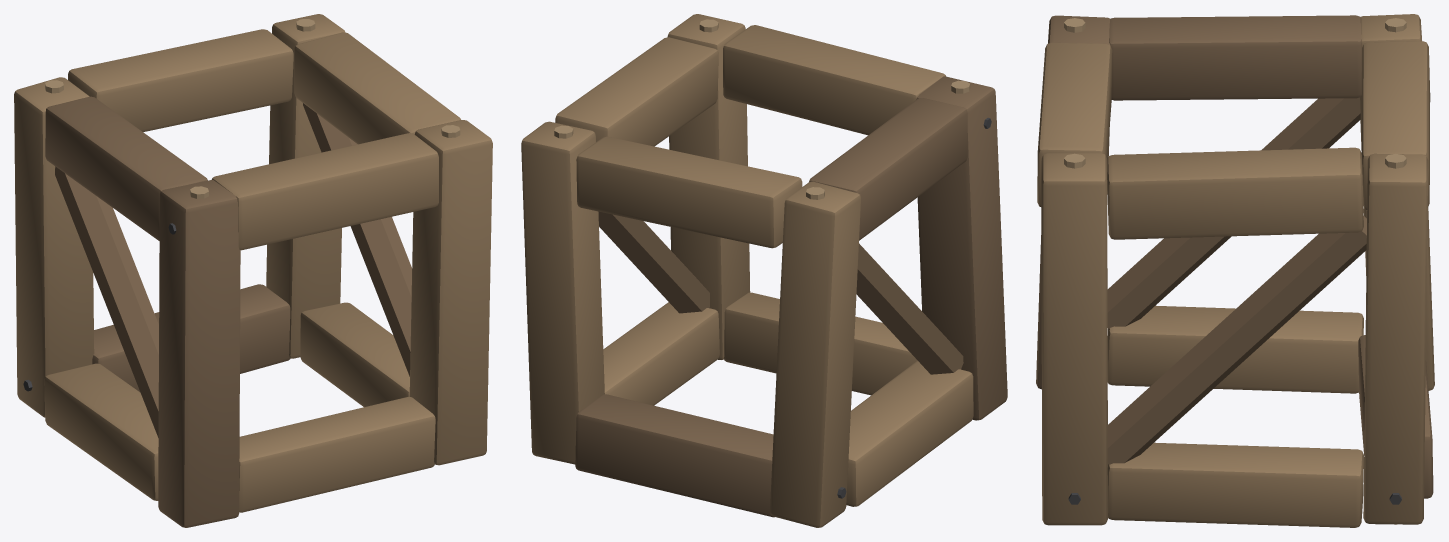
Rendered from wood_frame.glb.
3 renders of one model, left to right at view 1: azimuth 30°, elevation 25°; view 2: azimuth 150°, elevation 25°; view 3: azimuth 270°, elevation 25°, orthographic. The views are drawn at different scales.
Visible parts, largest first — view 1: Part; view 2: Part; view 3: Part.
Part boxes in pixels (left/top/right/bottom): Part: left=14, top=14, right=492, bottom=527; Part: left=521, top=14, right=1007, bottom=527; Part: left=1036, top=14, right=1434, bottom=527.
Bounding box in the file's own units: 0.5187 × 0.516 × 0.5155.
